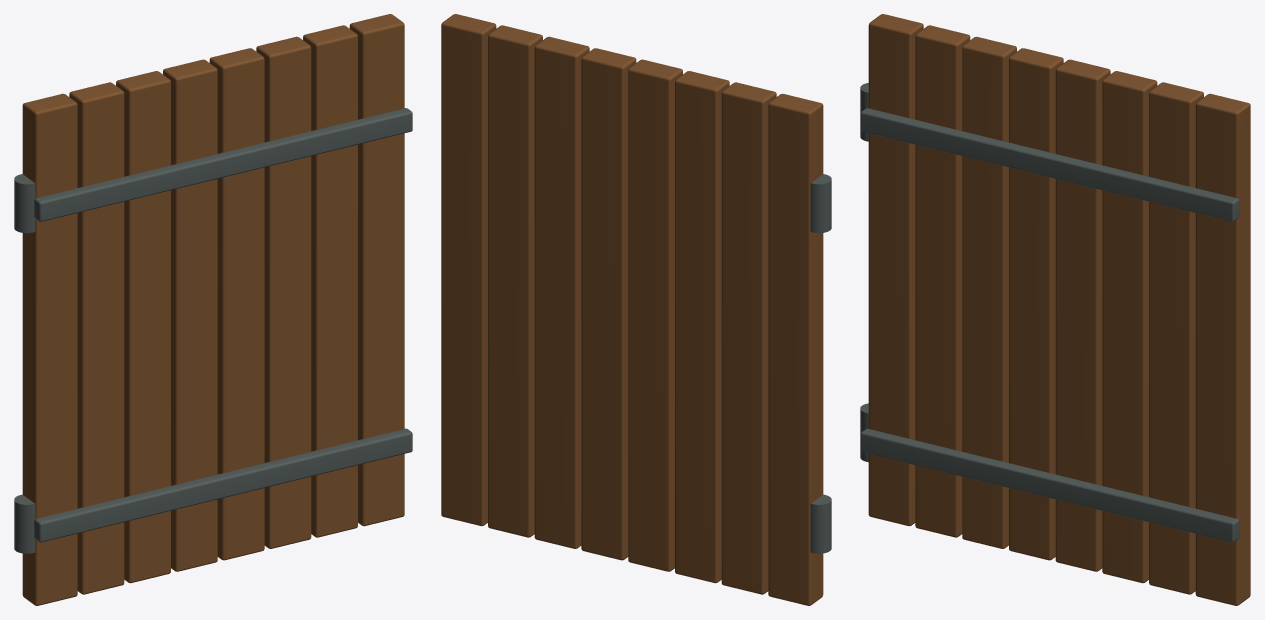
The model's file is SM_Gate_Door.fbx.
3 renders of one model, left to right at view 1: azimuth 30°, elevation 25°; view 2: azimuth 150°, elevation 25°; view 3: azimuth 330°, elevation 25°, orthographic.
Visible parts, largest first — view 1: Door_wood_plank, Door_wood_plank.004, Door_wood_plank.001, Door_wood_plank.005, Door_wood_plank.003, Door_wood_plank.006, Door_wood_plank.007, Door_wood_plank.002, Door_iron_strap.001, Door_iron_strap, Door_hinge.001, Door_hinge; view 2: Door_wood_plank, Door_wood_plank.001, Door_wood_plank.004, Door_wood_plank.005, Door_wood_plank.006, Door_wood_plank.003, Door_wood_plank.007, Door_wood_plank.002, Door_hinge.001, Door_hinge; view 3: Door_wood_plank.007, Door_wood_plank.001, Door_wood_plank, Door_wood_plank.004, Door_wood_plank.003, Door_wood_plank.002, Door_wood_plank.005, Door_wood_plank.006, Door_iron_strap, Door_iron_strap.001.
Boxes of the visible parts, x1=… form: Door_wood_plank: x1=22, y1=93, x2=77, y2=605; Door_wood_plank.004: x1=209, y1=48, x2=264, y2=560; Door_wood_plank.001: x1=69, y1=82, x2=124, y2=594; Door_wood_plank.005: x1=256, y1=36, x2=311, y2=548; Door_wood_plank.003: x1=163, y1=59, x2=217, y2=571; Door_wood_plank.006: x1=303, y1=25, x2=357, y2=537; Door_wood_plank.007: x1=349, y1=14, x2=404, y2=526; Door_wood_plank.002: x1=116, y1=71, x2=170, y2=583; Door_iron_strap.001: x1=34, y1=108, x2=412, y2=221; Door_iron_strap: x1=34, y1=428, x2=412, y2=542; Door_hinge.001: x1=14, y1=174, x2=35, y2=233; Door_hinge: x1=14, y1=494, x2=35, y2=553; Door_wood_plank: x1=768, y1=93, x2=823, y2=605; Door_wood_plank.001: x1=721, y1=82, x2=776, y2=594; Door_wood_plank.004: x1=581, y1=48, x2=636, y2=560; Door_wood_plank.005: x1=534, y1=36, x2=589, y2=548; Door_wood_plank.006: x1=488, y1=25, x2=542, y2=537; Door_wood_plank.003: x1=628, y1=59, x2=682, y2=571; Door_wood_plank.007: x1=441, y1=14, x2=496, y2=526; Door_wood_plank.002: x1=675, y1=71, x2=729, y2=583; Door_hinge.001: x1=810, y1=174, x2=831, y2=233; Door_hinge: x1=810, y1=494, x2=831, y2=553; Door_wood_plank.007: x1=1195, y1=93, x2=1250, y2=605; Door_wood_plank.001: x1=915, y1=25, x2=970, y2=537; Door_wood_plank: x1=868, y1=14, x2=923, y2=526; Door_wood_plank.004: x1=1055, y1=59, x2=1110, y2=571; Door_wood_plank.003: x1=1009, y1=48, x2=1063, y2=560; Door_wood_plank.002: x1=962, y1=36, x2=1016, y2=548; Door_wood_plank.005: x1=1102, y1=71, x2=1157, y2=583; Door_wood_plank.006: x1=1149, y1=82, x2=1203, y2=594; Door_iron_strap: x1=860, y1=428, x2=1239, y2=542; Door_iron_strap.001: x1=860, y1=108, x2=1239, y2=221.
Size of what is drawn, in the model's own units: 148 by 13.5 by 182.
